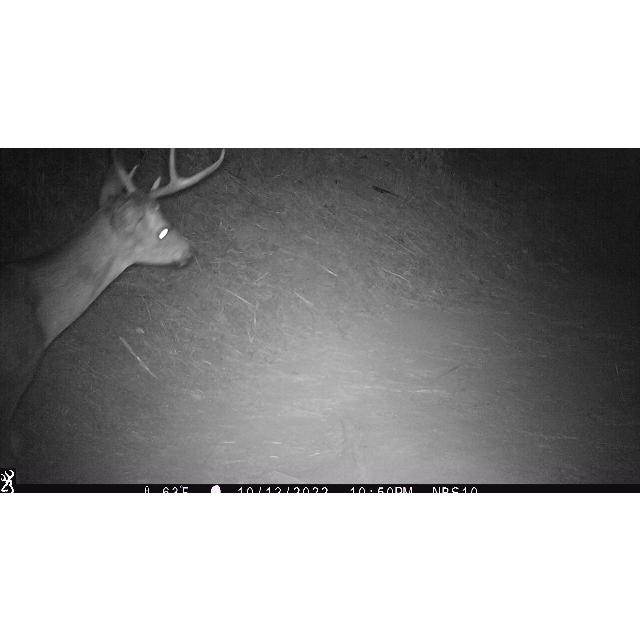animals: (0, 147, 230, 430)
